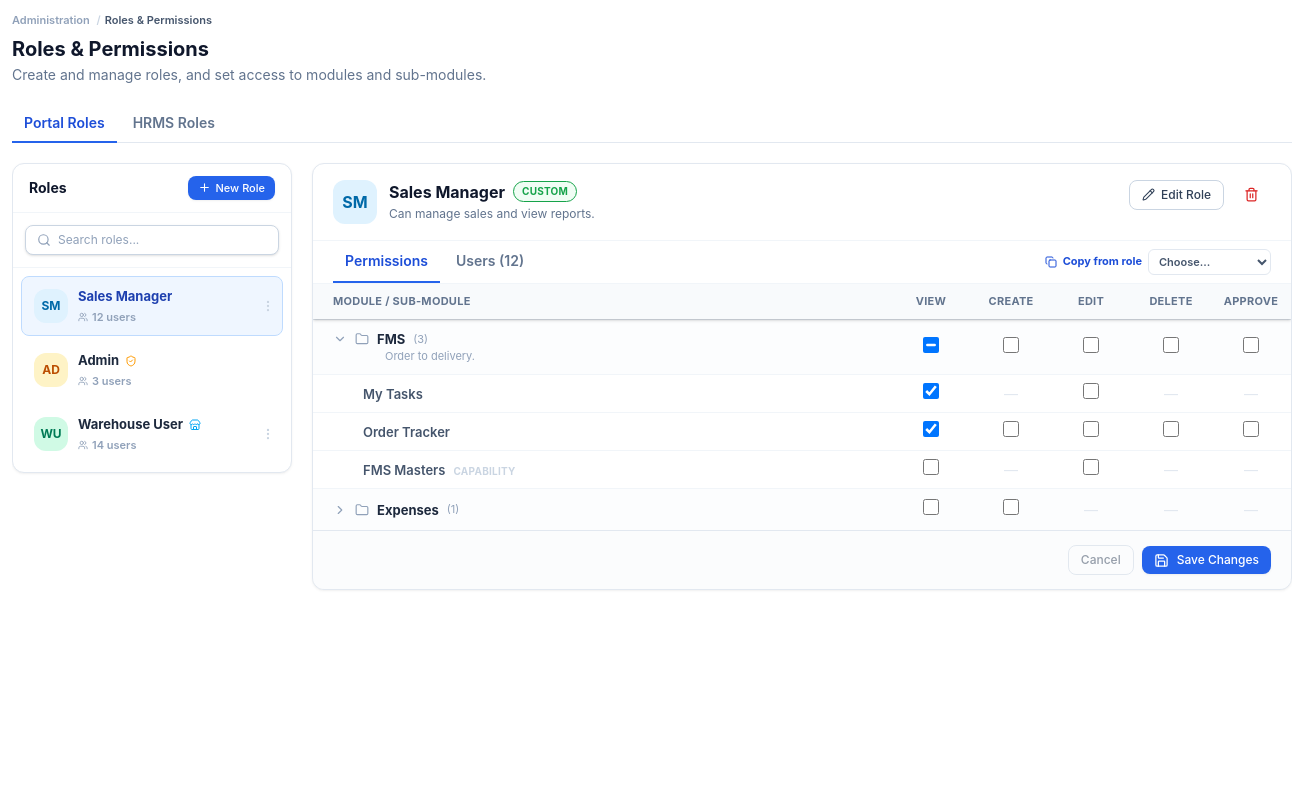
Test: the matrix › a portal-only role is not fenced out of clicking — every box still works
Expected: the button "My Tasks" is shown, top-left (363, 385), bottom-right (423, 404)
Click the button "WU Warehouse User 14 users" at (152, 434), box top-left (21, 404), bottom-right (283, 464)
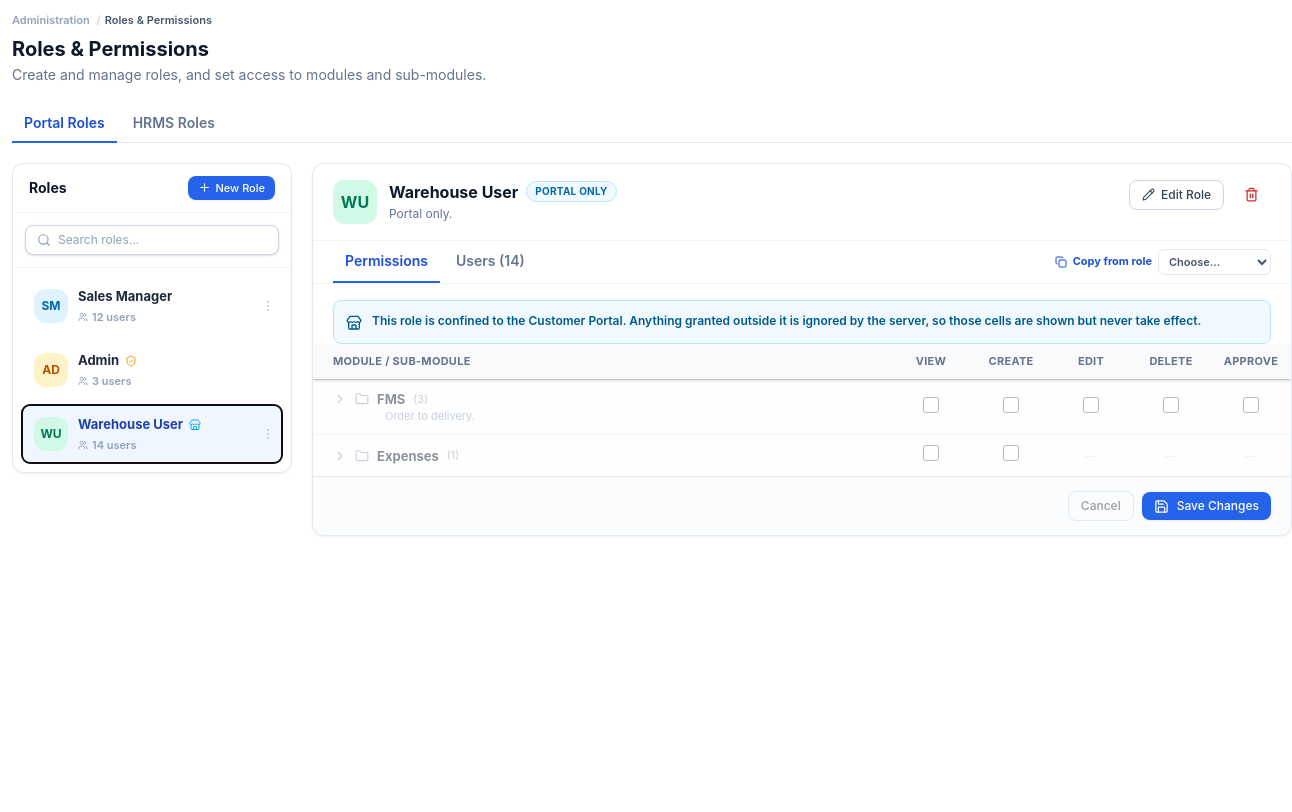
Expected: the checkbox named "View across all of FMS" is enabled, top-left (923, 397), bottom-right (939, 413)
Expected: the text "confined to the Customer Portal" is shown, top-left (372, 312), bottom-right (1201, 328)
